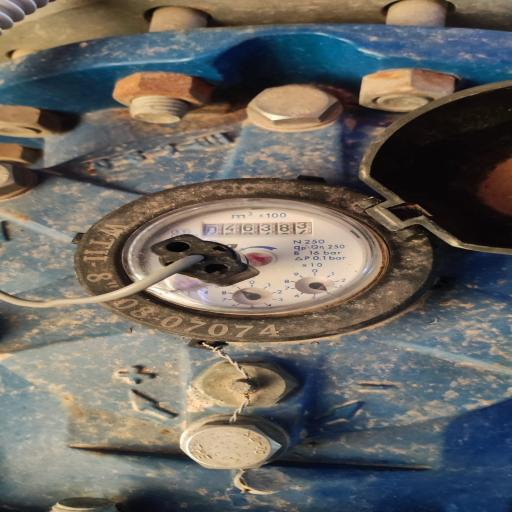0: (205, 226, 219, 235)
3: (260, 223, 272, 232), (296, 222, 309, 230)
4: (224, 224, 238, 232)
6: (242, 223, 256, 232)
8: (279, 224, 291, 232)
medida: (201, 222, 313, 236)
